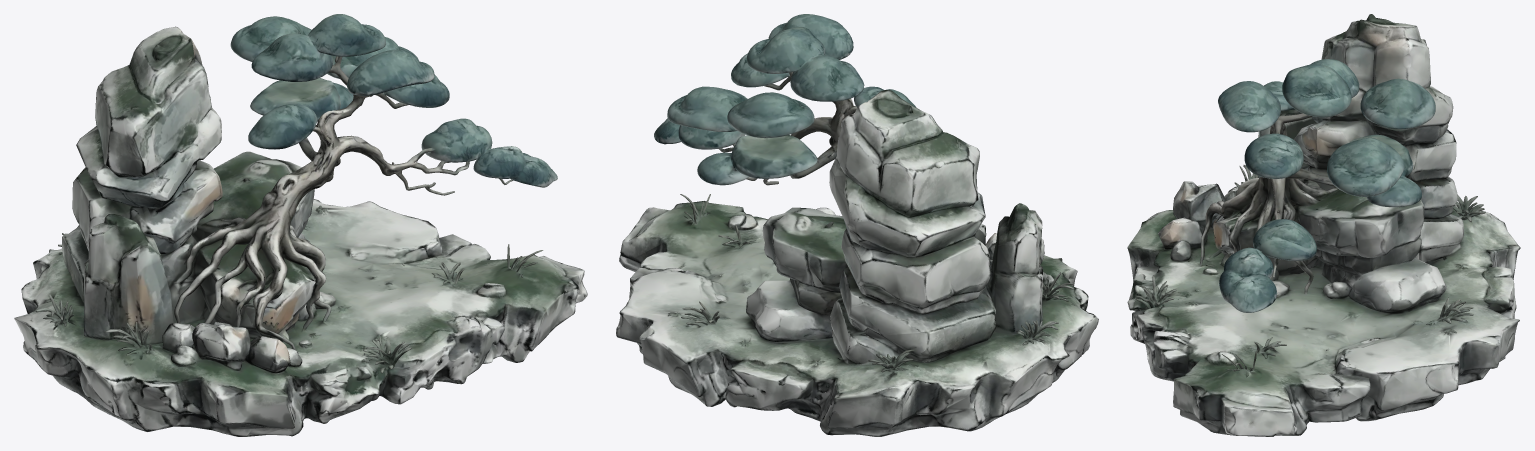
The model's file is fan_rockpine.glb.
3 views of the same model, side by side, from view 1: azimuth 30°, elevation 25°; view 2: azimuth 150°, elevation 25°; view 3: azimuth 270°, elevation 25° (orthographic). The views are drawn at different scales.
Visible parts, largest first — view 1: tripo_node_e4cc6df9-68a6-473f-99b1-c94bdfa6232d; view 2: tripo_node_e4cc6df9-68a6-473f-99b1-c94bdfa6232d; view 3: tripo_node_e4cc6df9-68a6-473f-99b1-c94bdfa6232d.
Boxes of the visible parts, x1,y1,x2,y2 form: tripo_node_e4cc6df9-68a6-473f-99b1-c94bdfa6232d: (14,14,587,436); tripo_node_e4cc6df9-68a6-473f-99b1-c94bdfa6232d: (616,14,1098,436); tripo_node_e4cc6df9-68a6-473f-99b1-c94bdfa6232d: (1127,14,1520,436).
Size of the model in its own units: 0.9814 by 0.6 by 0.7138.
Materials: 1 (1 with a texture image).
